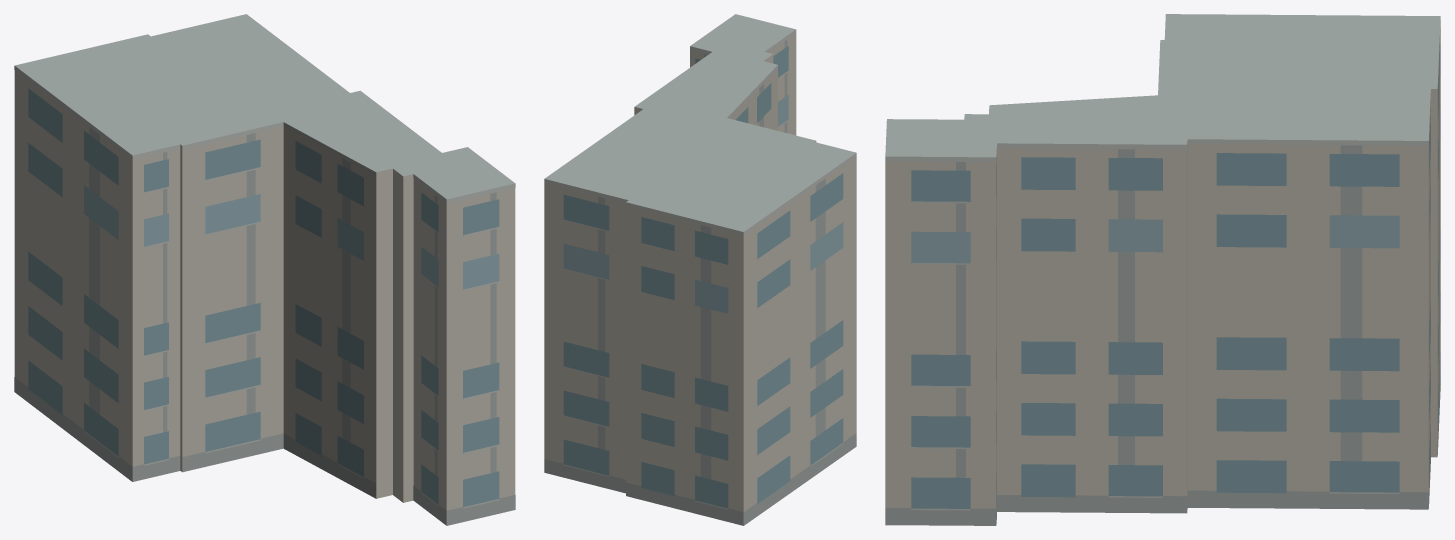
The model's file is survey-upis-32996501.glb.
The picture shows the model from 3 angles, left to right: view 1: azimuth 30°, elevation 25°; view 2: azimuth 150°, elevation 25°; view 3: azimuth 270°, elevation 25°; orthographic projection. The views are drawn at different scales.
Parts seen in each view (by area): view 1: survey-upis-32996501.tmp; view 2: survey-upis-32996501.tmp; view 3: survey-upis-32996501.tmp.
Part boxes in pixels (x1,y1,x2,y2): survey-upis-32996501.tmp: (14,14,515,525); survey-upis-32996501.tmp: (544,14,856,525); survey-upis-32996501.tmp: (885,14,1440,525).
Size of the model in its own units: 15.27 by 18.3 by 25.
